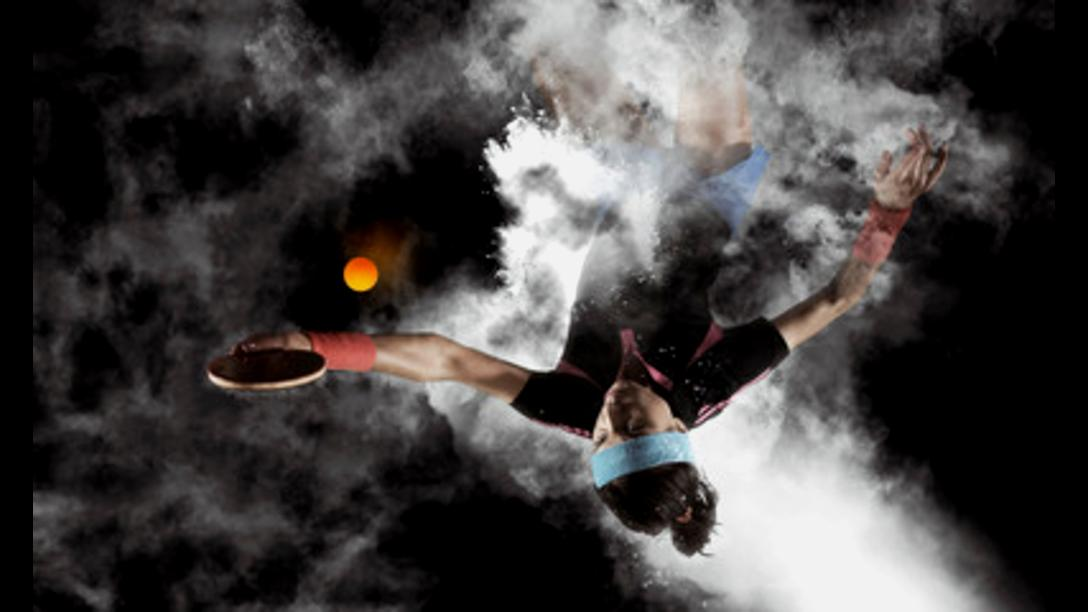Table-Tennis-Ball: (344, 258, 376, 290)
